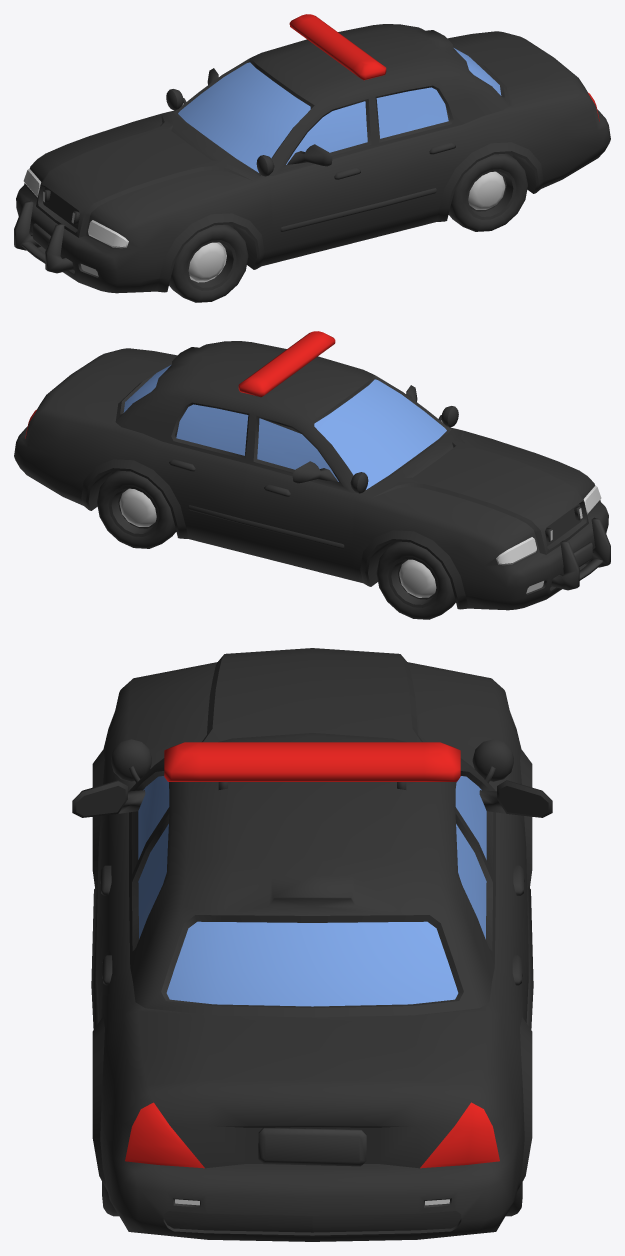
Rendered from arab renlk Police car.fbx.
The picture shows the model from 3 angles, top to bottom: view 1: azimuth 30°, elevation 25°; view 2: azimuth 150°, elevation 25°; view 3: azimuth 270°, elevation 25°; orthographic projection. The views are drawn at different scales.
Parts seen in each view (by area): view 1: police car cartoon; view 2: police car cartoon; view 3: police car cartoon.
Boxes of the visible parts, x1,y1,x2,y2 form: police car cartoon: (14,14,610,302); police car cartoon: (14,331,610,619); police car cartoon: (72,648,552,1241).
Bounding box in the file's own units: 2146 × 688 × 818.
